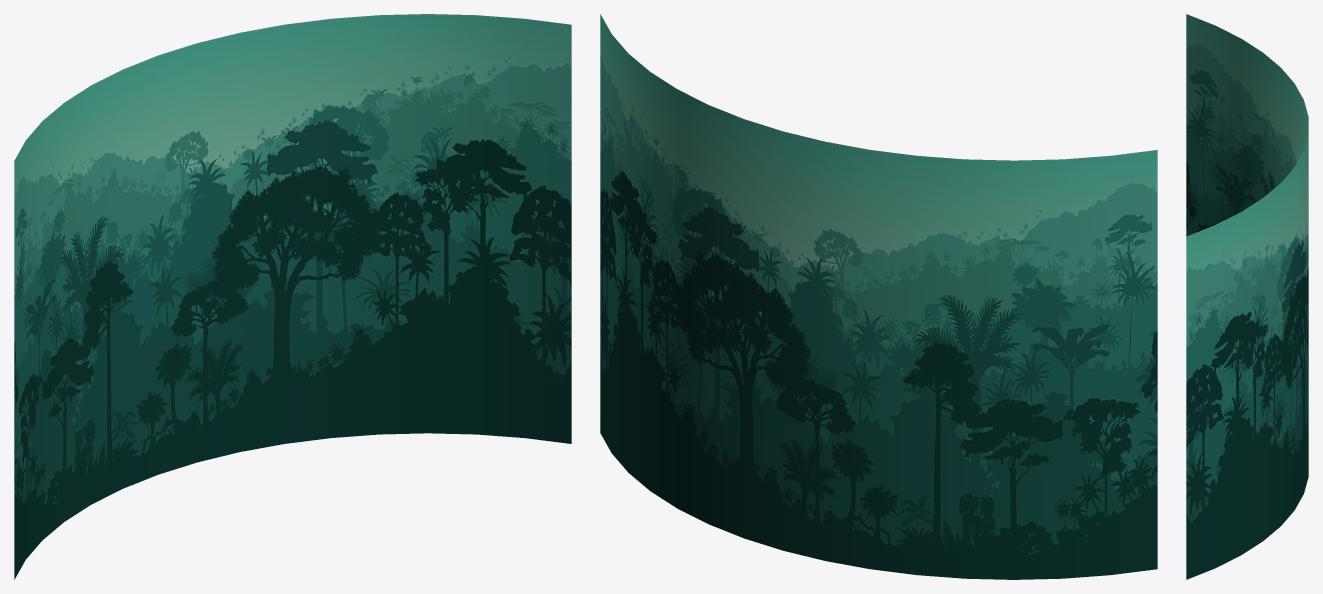
Rendered from plano1.FBX.
3 views of the same model, side by side, from view 1: azimuth 30°, elevation 25°; view 2: azimuth 150°, elevation 25°; view 3: azimuth 270°, elevation 25° (orthographic). The views are drawn at different scales.
Parts seen in each view (by area): view 1: Plane001; view 2: Plane001; view 3: Plane001.
Part boxes in pixels (x1,y1,x2,y2): Plane001: (14, 14, 571, 579); Plane001: (600, 14, 1157, 579); Plane001: (1186, 14, 1308, 579).
Bounding box in the file's own units: 1668 × 1200 × 387.
Materials: 1 (1 with a texture image).
